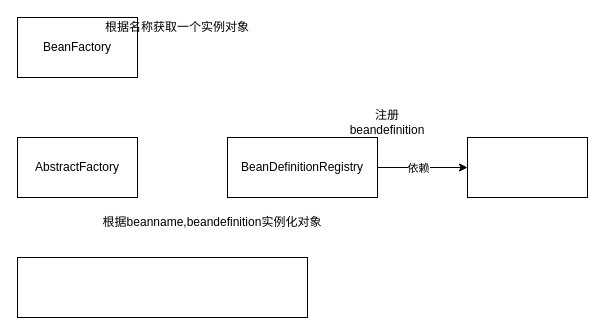
Image size: 605x335. Some labels were removed from this diagram. The shapes that lost their labels are listed below. From the top down, each one's centre as x and y in pixels, then its label:
pixel 527 167: BeanDefinition
pixel 162 287: AbstractAutowiredCapableFactory
